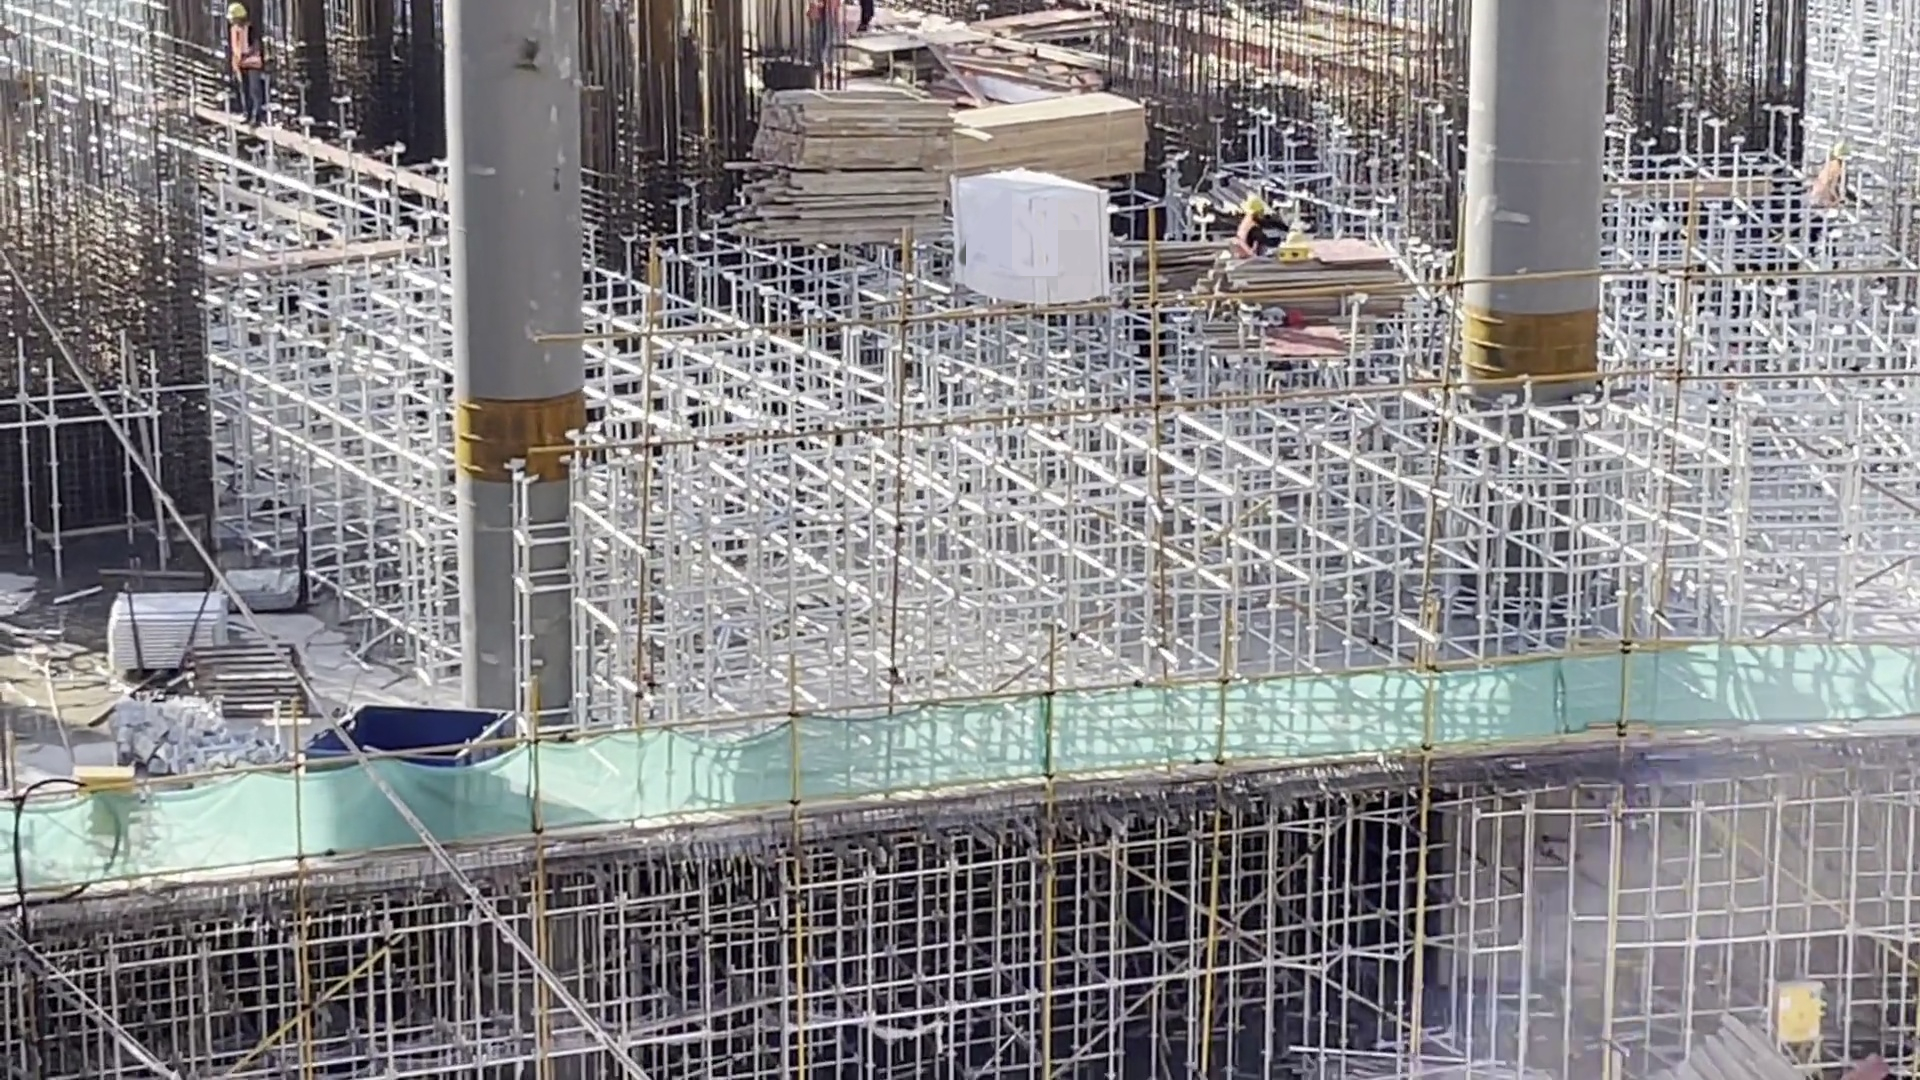board: (1234, 234, 1379, 332)
ebox: (64, 764, 148, 847), (1774, 974, 1821, 1029)
helmet: (1238, 195, 1264, 216), (224, 3, 252, 23), (1836, 145, 1852, 165)
hopper: (306, 696, 526, 792)
person: (1814, 143, 1876, 213), (1231, 185, 1289, 260), (226, 3, 263, 108), (810, 1, 828, 67), (862, 1, 869, 26)
scaffold: (124, 587, 243, 681)
vest: (224, 21, 259, 64), (1824, 162, 1850, 207), (1239, 220, 1268, 245), (808, 1, 822, 35)
wood: (793, 96, 941, 261), (946, 127, 1146, 197), (1679, 1011, 1787, 1080)
